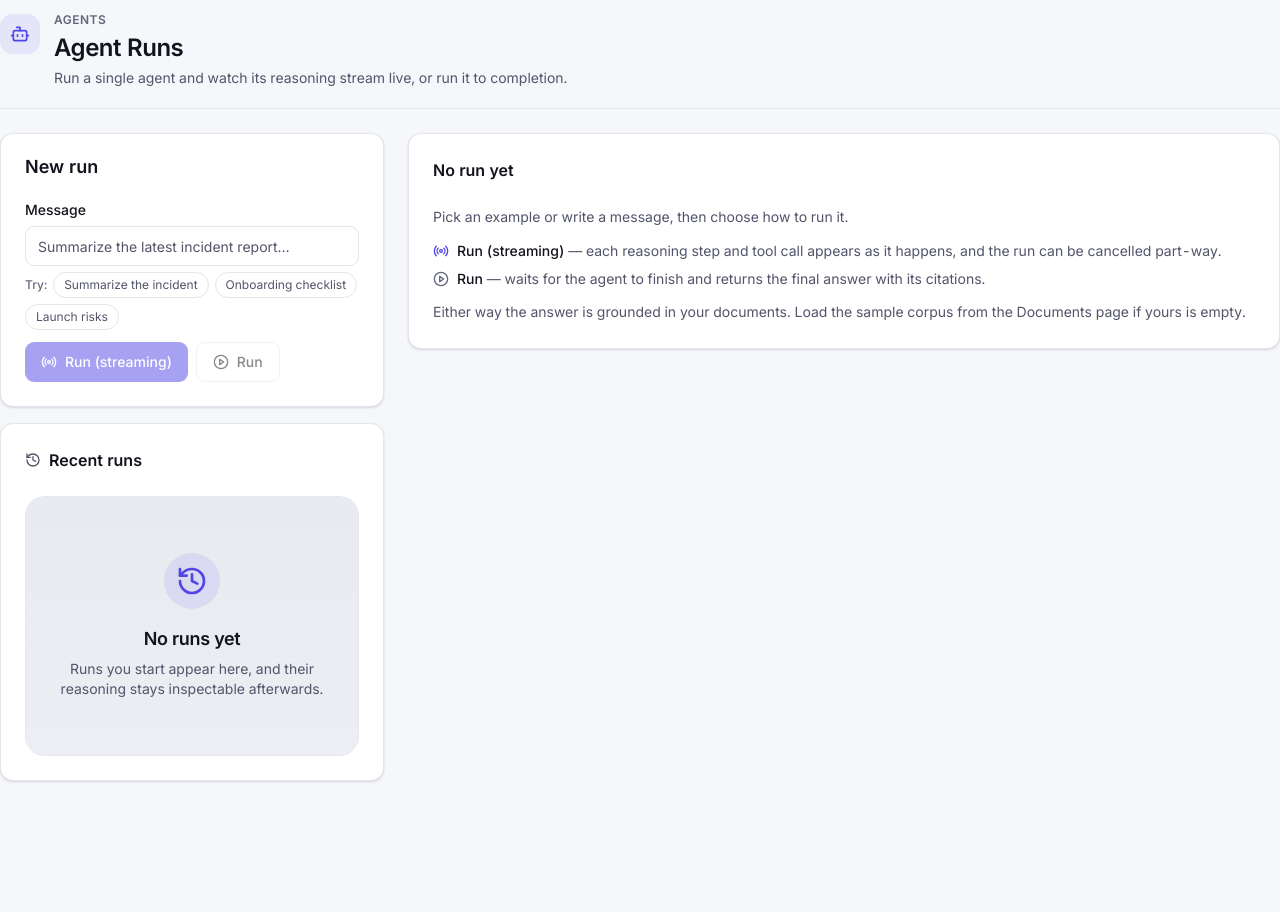
Test case: SingleAgentRunView (MSW SSE) › renders streamed events in order and the completion answer + citations (9.1, 9.2)
Type "hi" into the field with test id "agent-message".
click(192, 246); type("hi")  # box [25,226,359,266]
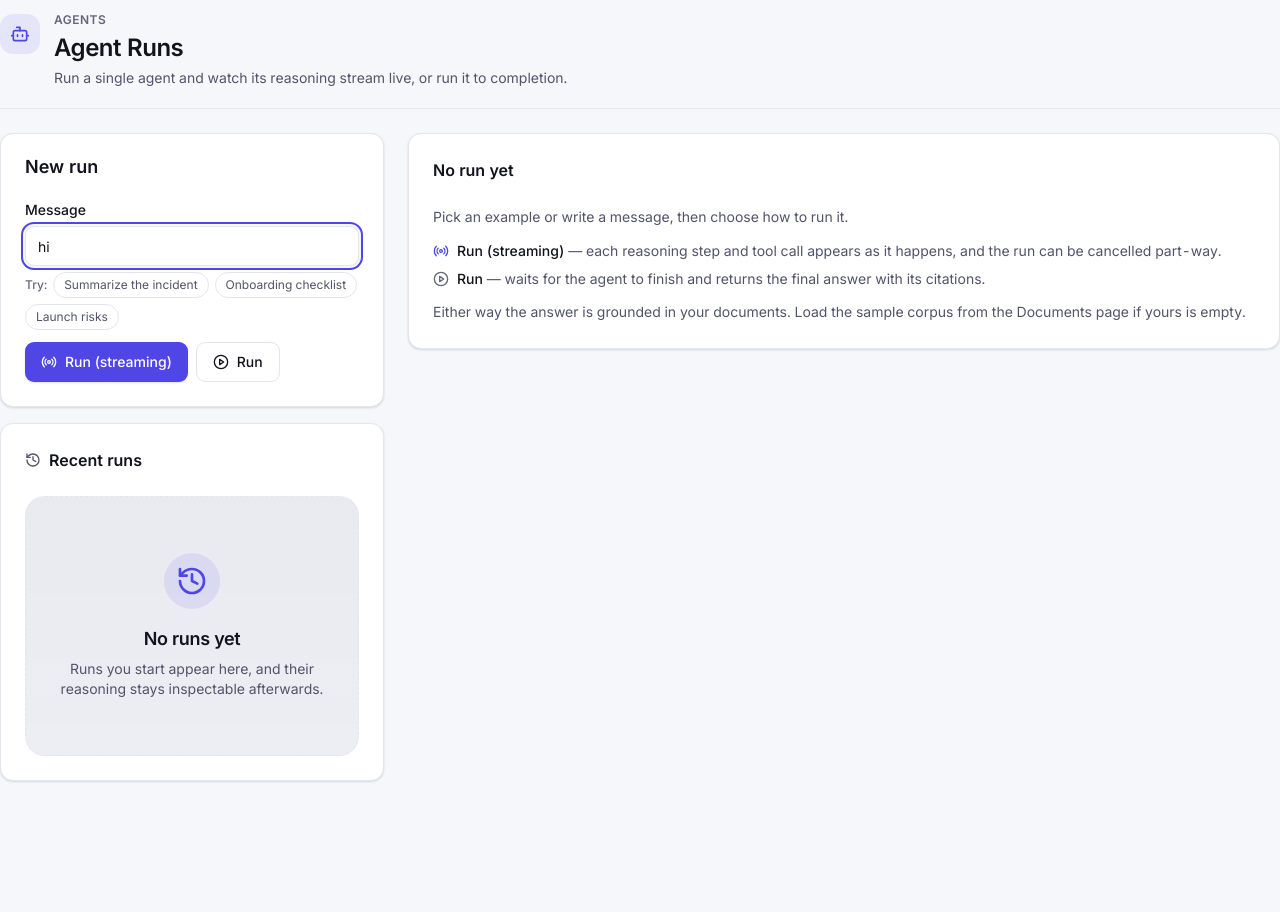
Click the button with test id "agent-run-stream".
click(106, 362)  # box [25,342,188,382]
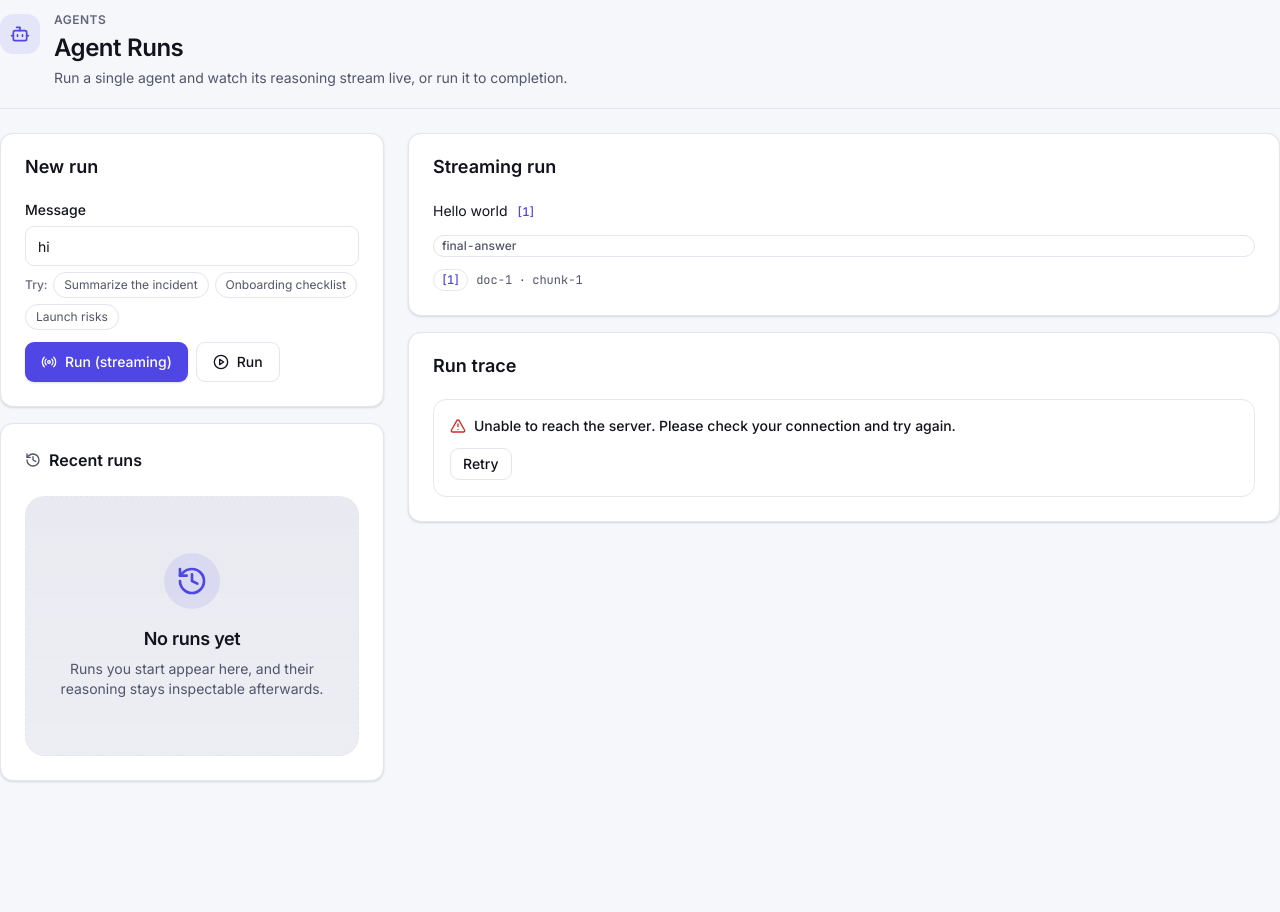
Expected: the element with test id "stream-answer" is shown, [433,200,1255,291]
Expected: the element with test id "stream-answer" shows "Hello world", [433,202,511,219]
Expected: the text with test id "stream-termination-reason" reads "final-answer", [442,238,516,253]
